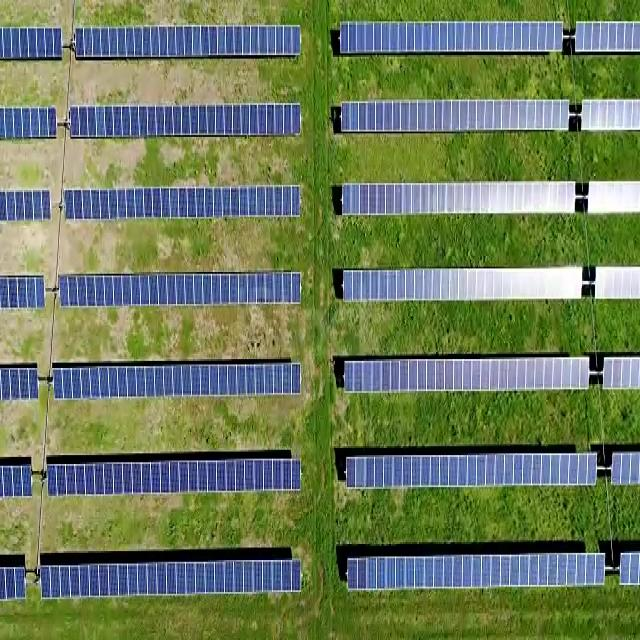Solar-panels: (44, 558, 305, 602), (48, 458, 302, 498), (344, 451, 598, 489), (349, 554, 605, 590), (56, 367, 302, 404), (62, 273, 303, 308), (344, 271, 585, 304), (66, 186, 302, 219), (76, 25, 304, 59), (347, 357, 592, 388), (343, 104, 570, 136), (345, 183, 578, 214), (340, 19, 564, 51), (70, 110, 302, 139)
